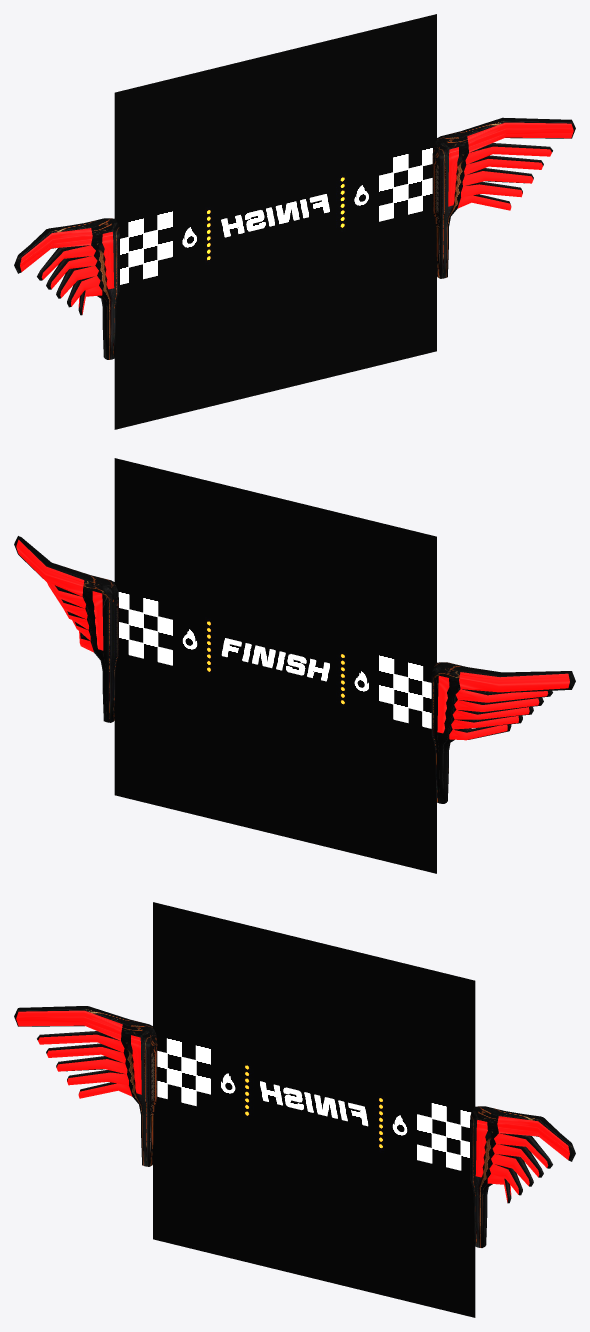
File: track3FinishFlag.glb
3 renders of one model, top to bottom at view 1: azimuth 30°, elevation 25°; view 2: azimuth 150°, elevation 25°; view 3: azimuth 330°, elevation 25°, orthographic.
Parts seen in each view (by area): view 1: Cube.021; view 2: Cube.021; view 3: Cube.021.
Boxes of the visible parts, bbox=[...] form: Cube.021: bbox=[14, 14, 575, 429]; Cube.021: bbox=[14, 458, 575, 873]; Cube.021: bbox=[14, 902, 575, 1317].
Size of the model in its own units: 6.98 by 4 by 0.5687.
3 materials, 3 textured.
